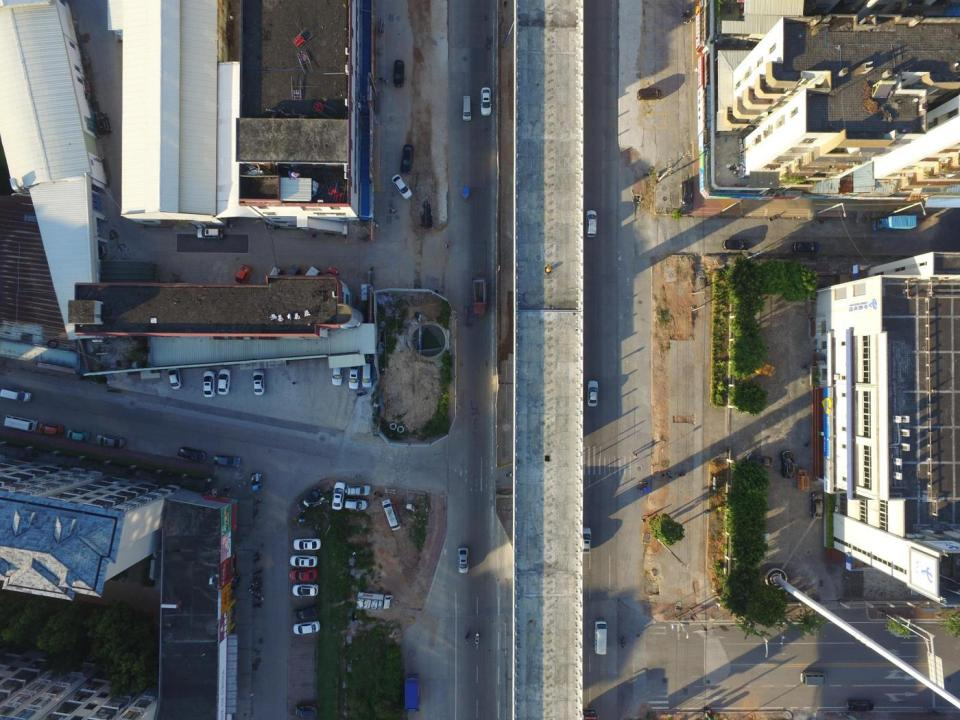car: (296, 487, 322, 512), (391, 174, 412, 200), (232, 264, 250, 291), (300, 267, 322, 289), (176, 446, 206, 462), (780, 449, 796, 479), (291, 605, 319, 622), (399, 143, 414, 174), (292, 620, 321, 636), (745, 452, 774, 468), (320, 267, 340, 290), (211, 455, 241, 470), (290, 567, 318, 583), (290, 554, 318, 570), (35, 422, 64, 437), (792, 239, 821, 254), (846, 697, 875, 712), (94, 433, 125, 447), (216, 368, 232, 395), (291, 537, 321, 551), (347, 359, 361, 389), (166, 364, 182, 390), (295, 702, 319, 719), (282, 265, 299, 289), (202, 369, 216, 398), (252, 366, 266, 395), (292, 583, 319, 598), (809, 493, 824, 520), (331, 480, 344, 511), (720, 238, 750, 251), (586, 379, 599, 408), (636, 87, 661, 102), (95, 112, 111, 134), (392, 58, 404, 87), (480, 86, 492, 115), (344, 499, 368, 513), (265, 266, 281, 287), (346, 484, 370, 497), (457, 547, 469, 573), (66, 428, 90, 441), (581, 526, 592, 554), (330, 365, 344, 386), (363, 361, 373, 389), (682, 180, 693, 205)
truck: (470, 274, 488, 317), (355, 591, 393, 611), (872, 215, 918, 231), (404, 673, 421, 713)
van: (380, 500, 403, 532), (3, 413, 36, 432), (593, 617, 608, 656), (0, 387, 32, 402), (800, 670, 826, 686), (194, 226, 222, 240), (585, 208, 598, 238), (796, 467, 811, 492), (462, 95, 472, 122)
